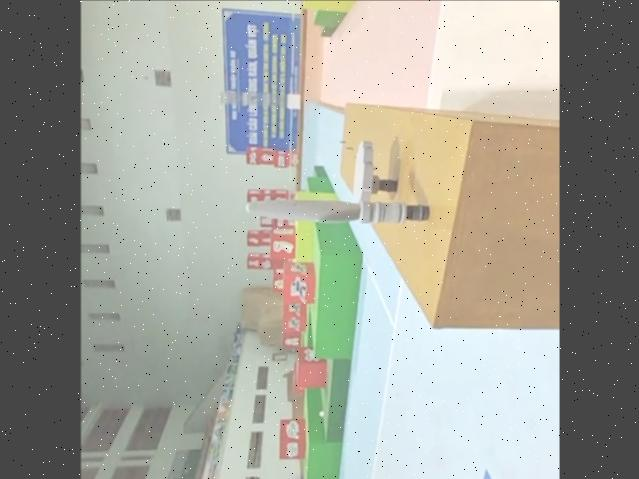Sph: (246, 193, 435, 224), (352, 134, 398, 204)
